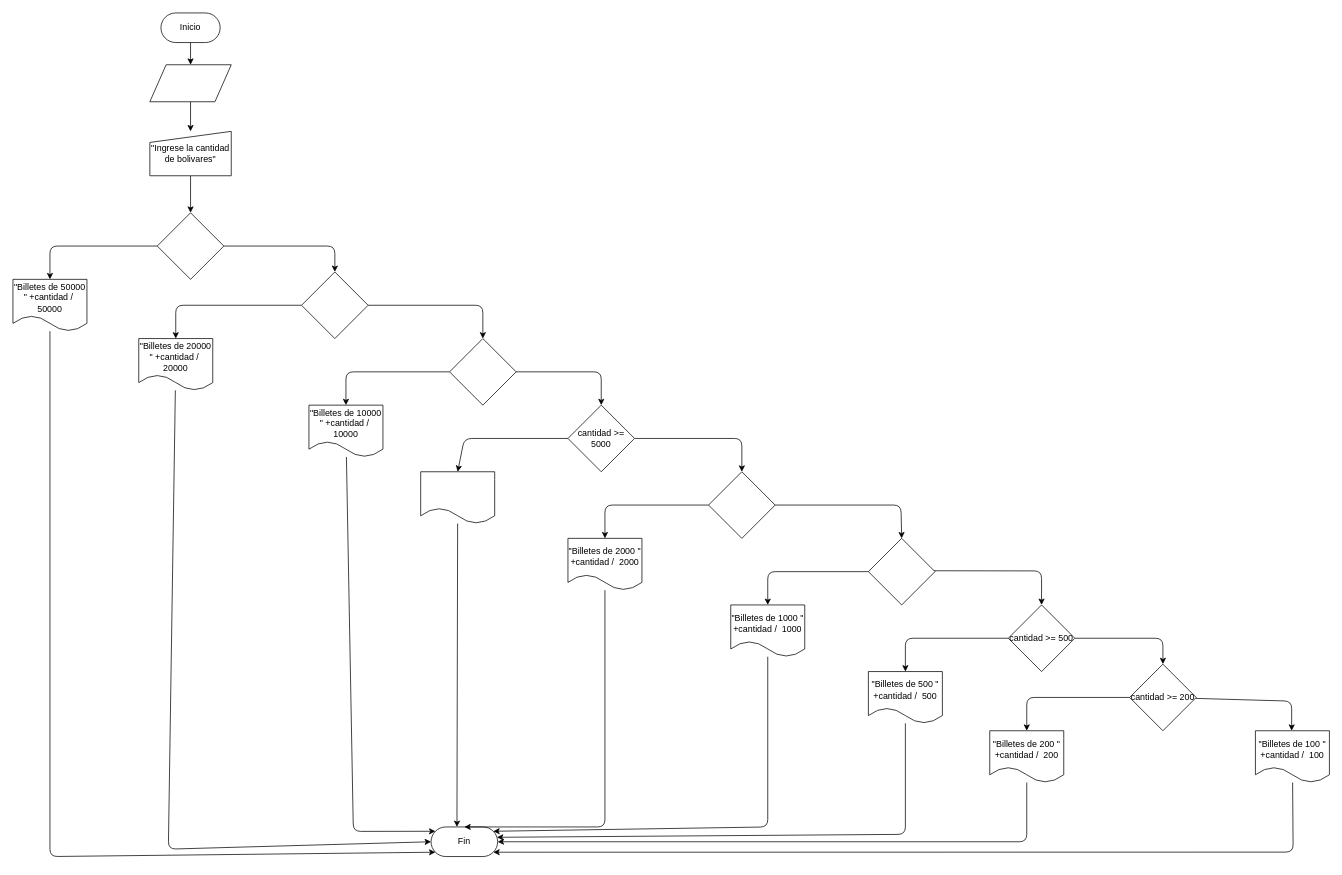
This 1342x875 diagram has some shape labels left out. The shapes that lost their labels are listed below. From the top down, each one's centre as x and y in pixels, then its label:
(x=190, y=83): cantidad
(x=190, y=245): cantidad >= 50000
(x=334, y=305): cantidad >= 20000
(x=482, y=371): cantidad >= 10000
(x=457, y=497): "Billetes de 5000 " +cantidad / 5000
(x=741, y=504): cantidad >= 2000
(x=901, y=571): cantidad >= 1000
